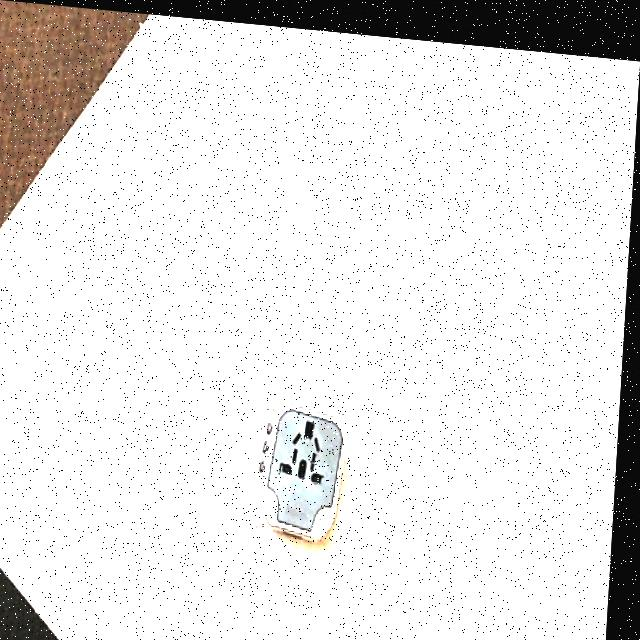adapter: (262, 394, 354, 536)
